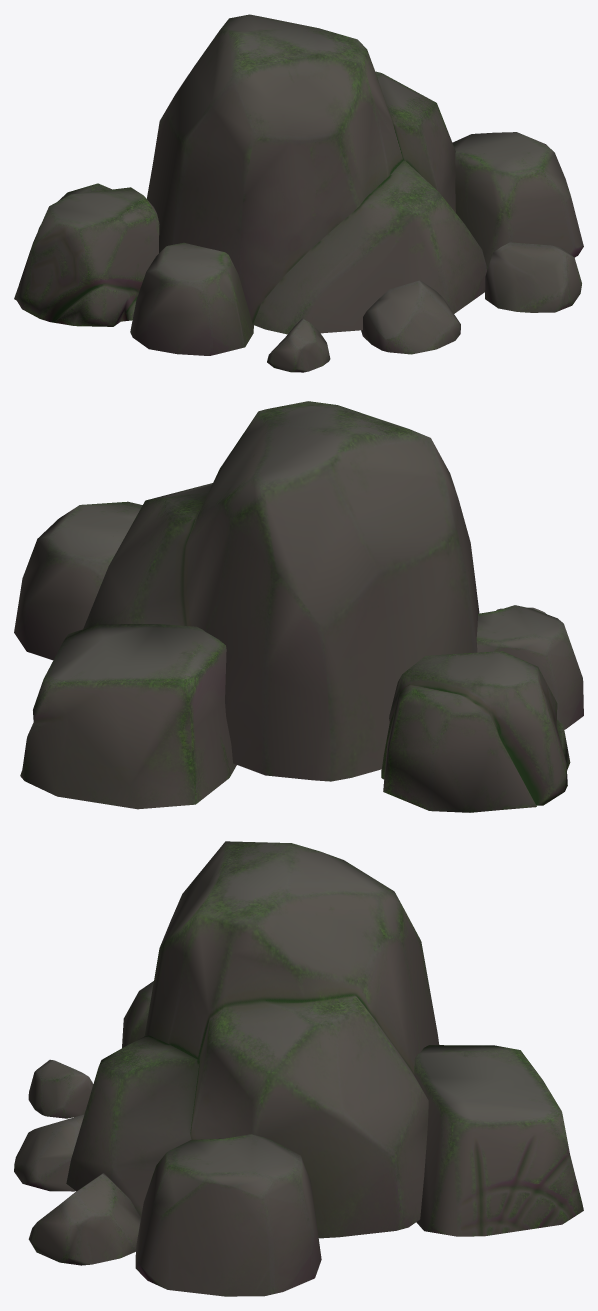
Rendered from Outdoor_prop_stones_01.FBX.
3 renders of one model, top to bottom at view 1: azimuth 30°, elevation 25°; view 2: azimuth 150°, elevation 25°; view 3: azimuth 270°, elevation 25°, orthographic. The views are drawn at different scales.
Parts seen in each view (by area): view 1: Outdoor_prop_stones_01; view 2: Outdoor_prop_stones_01; view 3: Outdoor_prop_stones_01.
Boxes of the visible parts, left/top/right/bottom form: Outdoor_prop_stones_01: left=14, top=14, right=583, bottom=372; Outdoor_prop_stones_01: left=14, top=401, right=583, bottom=812; Outdoor_prop_stones_01: left=14, top=841, right=583, bottom=1296.
Size of the model in its own units: 195 by 167 by 93.42.
